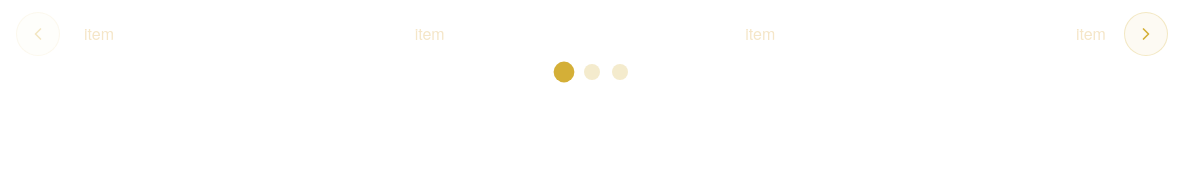
Scenario: HorizontalSlider › при maxIndex кнопка next disabled
The image size is (1185, 172).
Click the button named "Вперёд" at (1146, 34), box [1124,12,1168,56]
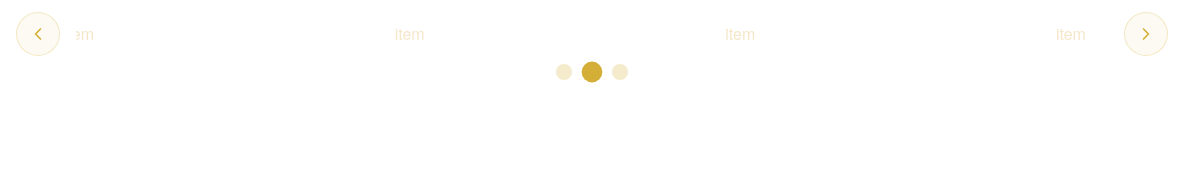
Click the button named "Вперёд" at (1146, 34), box [1124,12,1168,56]
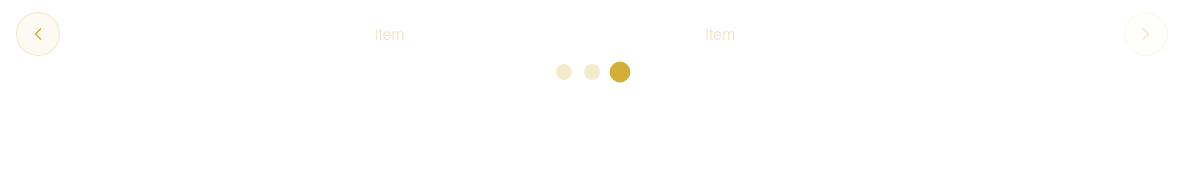
Expected: the button named "Вперёд" is disabled, [1124,12,1168,56]
